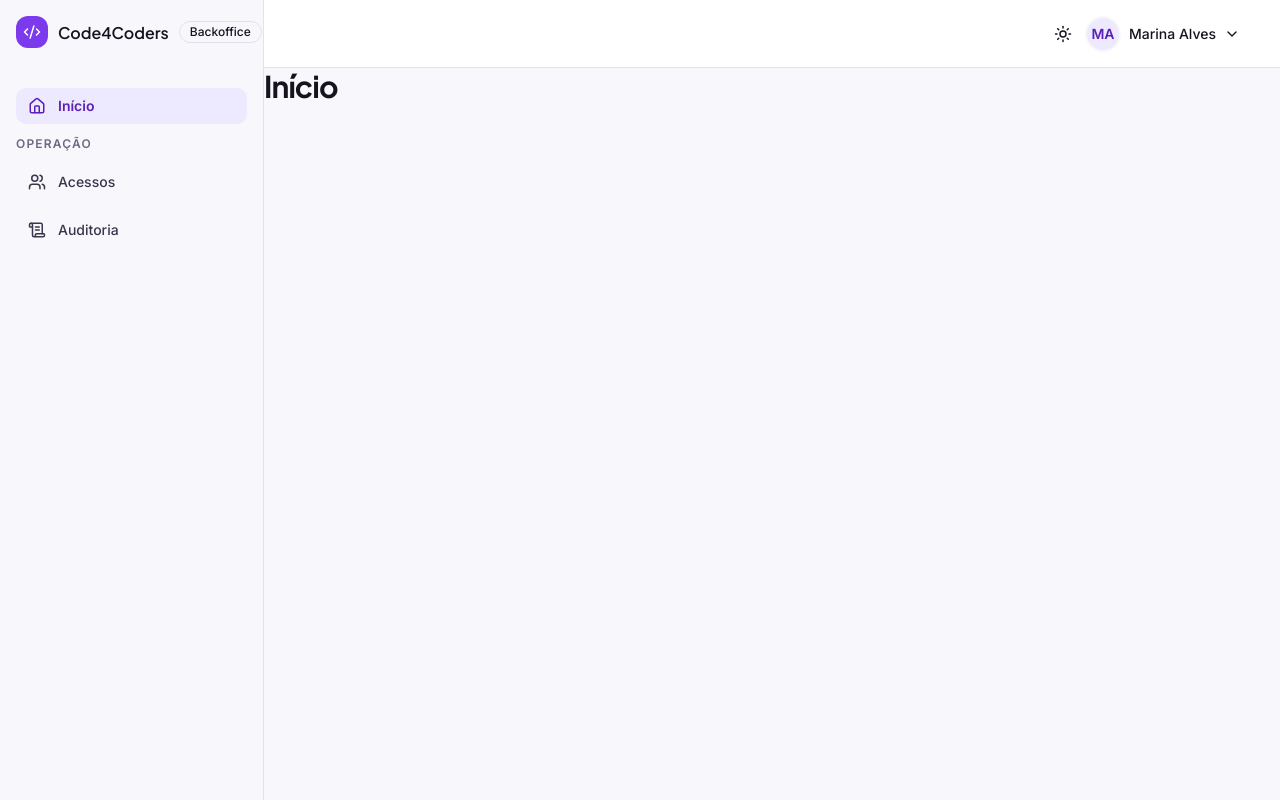
Test case: StaffSession areas › shows name, roles as plain text and a Sair item with icon in the account menu
Click the button "MA Marina Alves".
click(1164, 34)  # box [1081,12,1248,56]
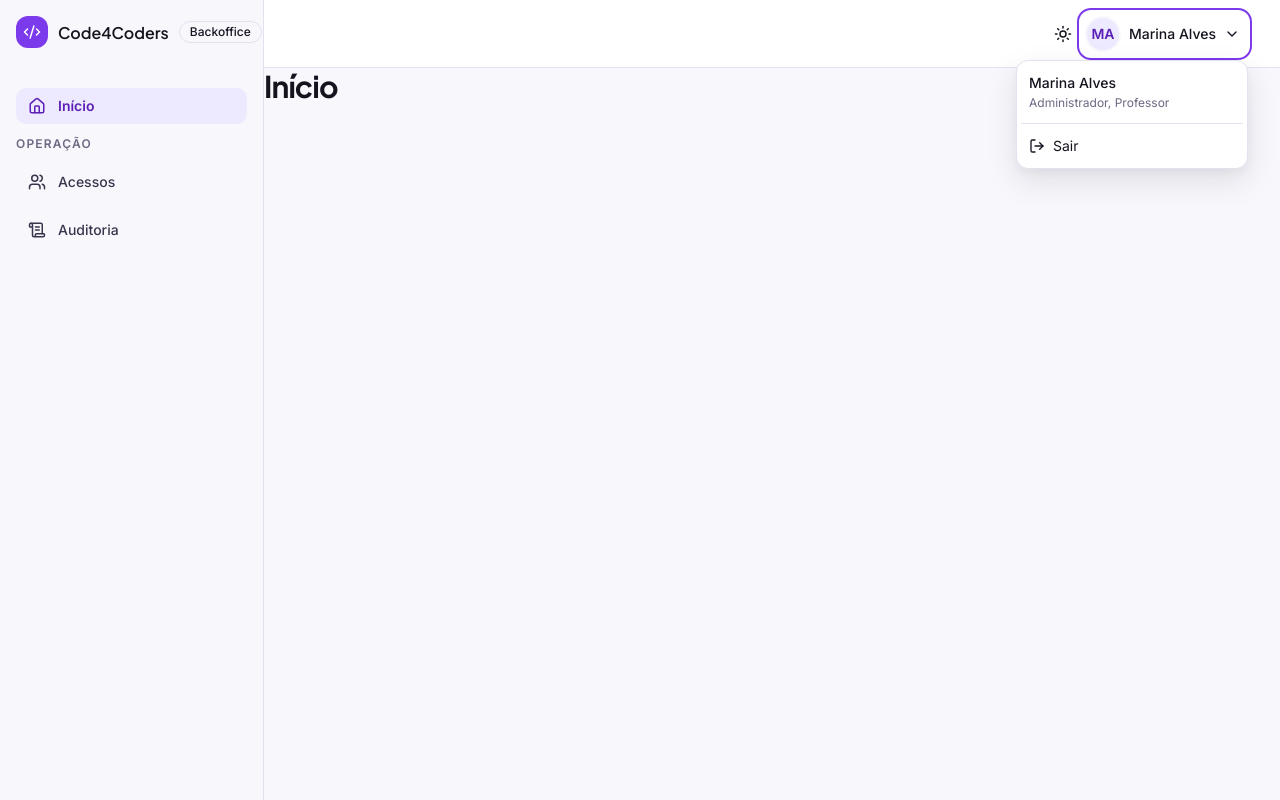
Expected: the 2nd text "Marina Alves" is shown, [1029,74,1116,90]
Expected: the text "Administrador, Professor" is shown, [1029,94,1169,110]
Expected: the icon below "Administrador, Professor" is shown, [1029,138,1045,154]
